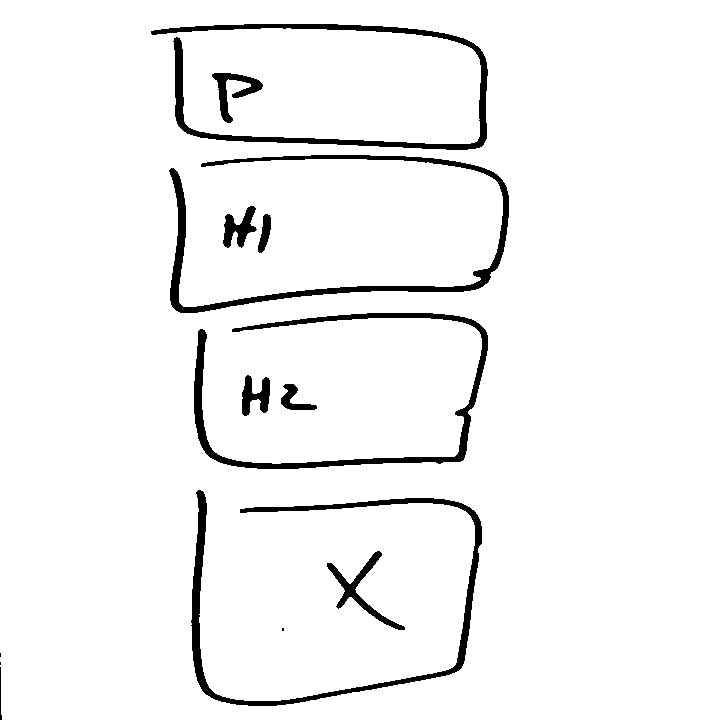heading1: (162, 154, 516, 316)
heading2: (187, 309, 490, 473)
paragraph: (144, 23, 497, 152)
picture: (185, 489, 490, 710)
